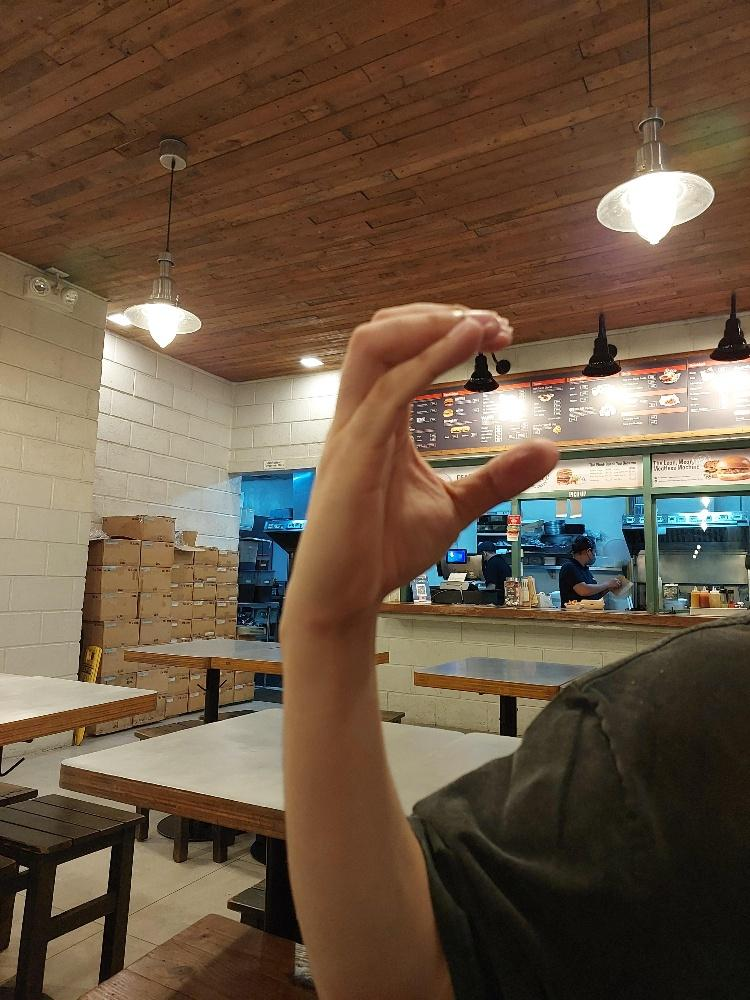c: (308, 300, 560, 626)
